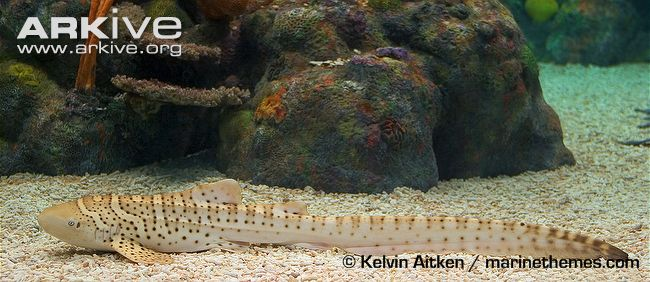shark: (26, 161, 630, 261)
